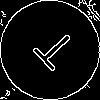T: (25, 25, 80, 79)
